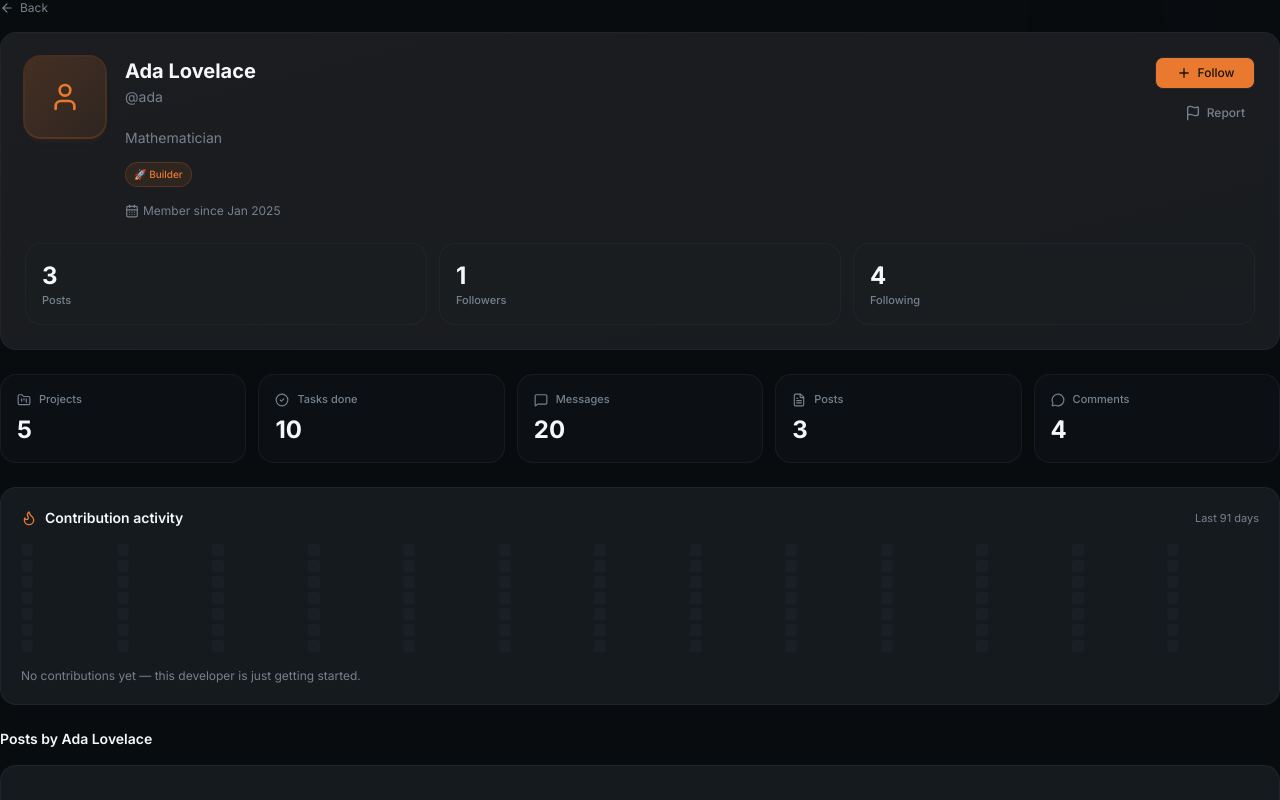
Test: UserProfilePage › opens the followers list dialog
Check: the heading "Ada Lovelace" is shown, box [125,59,256,83]
Click the button with aria-label "view followers" at x=481, y=300, box [439,243,841,325]
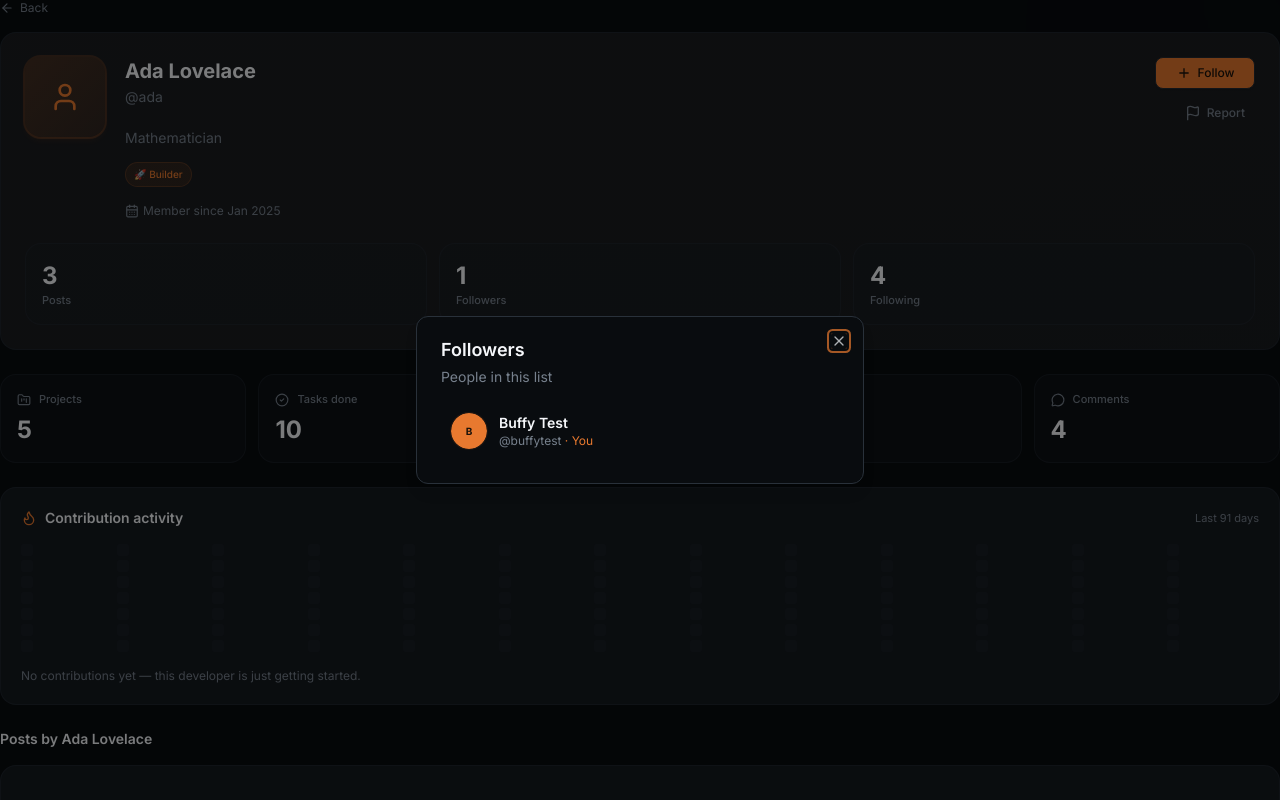
Check: the text "Buffy Test" is shown, box [499,414,568,431]
